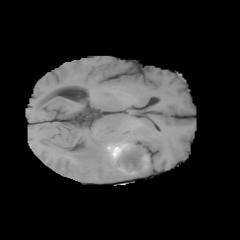glioma: (71, 129, 151, 176)
